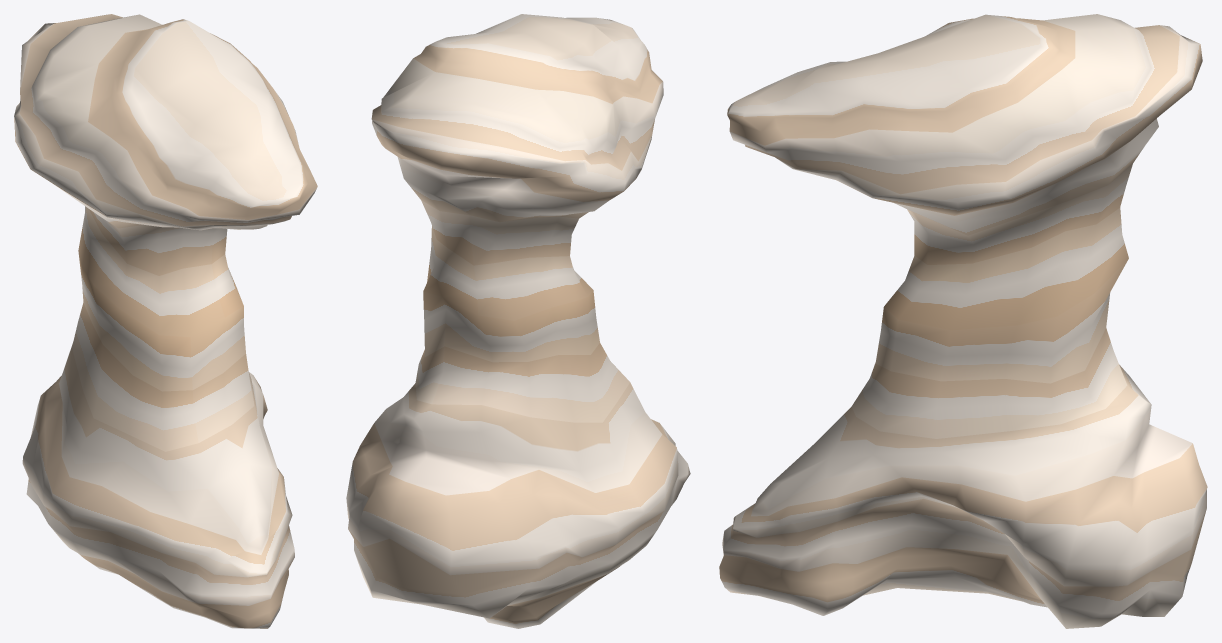
File: valleyCanyon.fbx
3 views of the same model, side by side, from view 1: azimuth 30°, elevation 25°; view 2: azimuth 150°, elevation 25°; view 3: azimuth 270°, elevation 25° (orthographic). The views are drawn at different scales.
Parts seen in each view (by area): view 1: ValleyCanyonMesh; view 2: ValleyCanyonMesh; view 3: ValleyCanyonMesh.
Boxes of the visible parts, box(x1,y1,x2,y2) form: ValleyCanyonMesh: box(14, 14, 317, 628); ValleyCanyonMesh: box(346, 14, 690, 628); ValleyCanyonMesh: box(719, 14, 1207, 628).
Bounding box in the file's own units: 0.0762 × 0.1627 × 0.1206.
